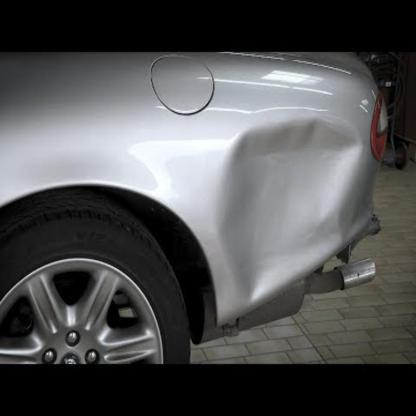headlamp: (370, 87, 388, 162)
rear_bumper: (0, 52, 378, 326)
